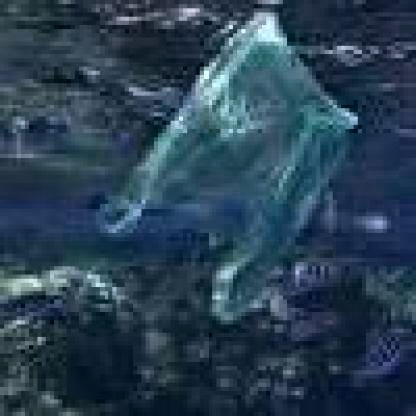pbag: (100, 13, 362, 320)
